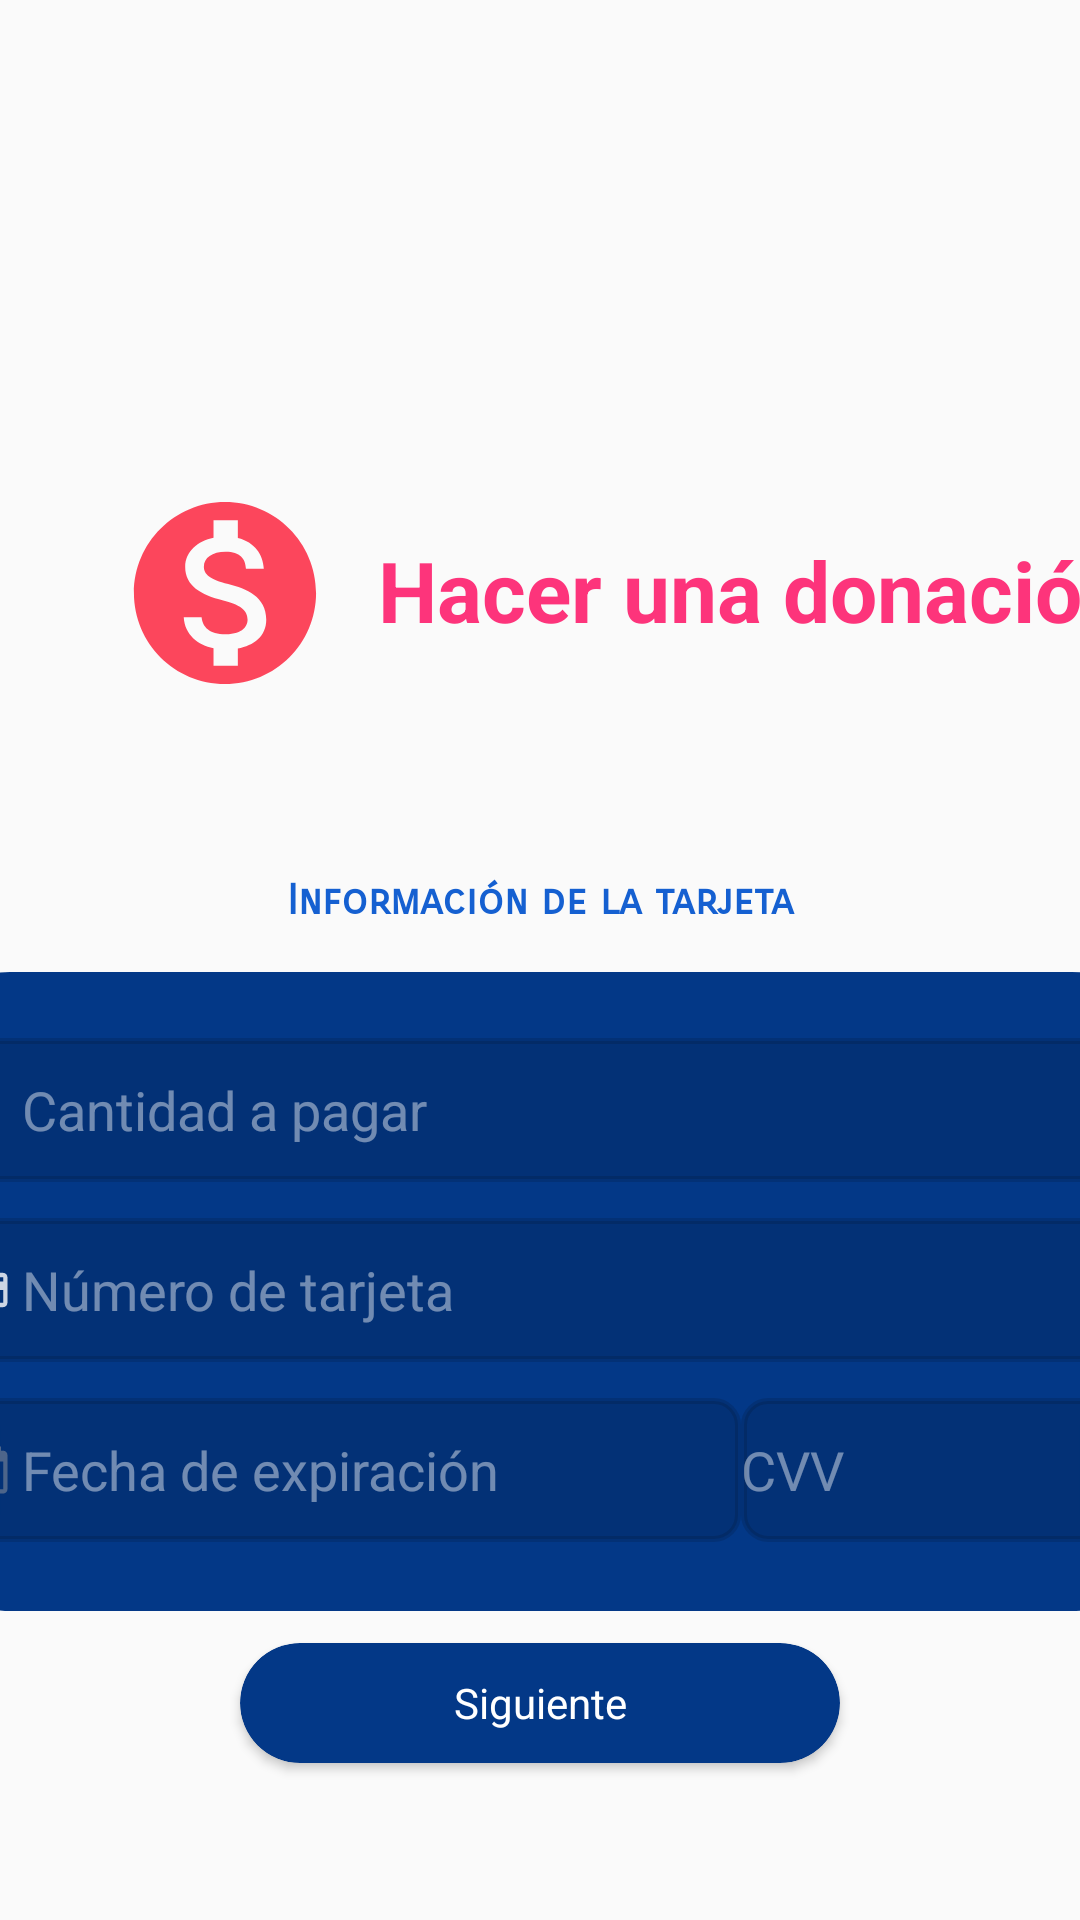

Point at icon controls on the screen. Image size 1080*1920, points as [x,y].
donation symbol: [224,593]
